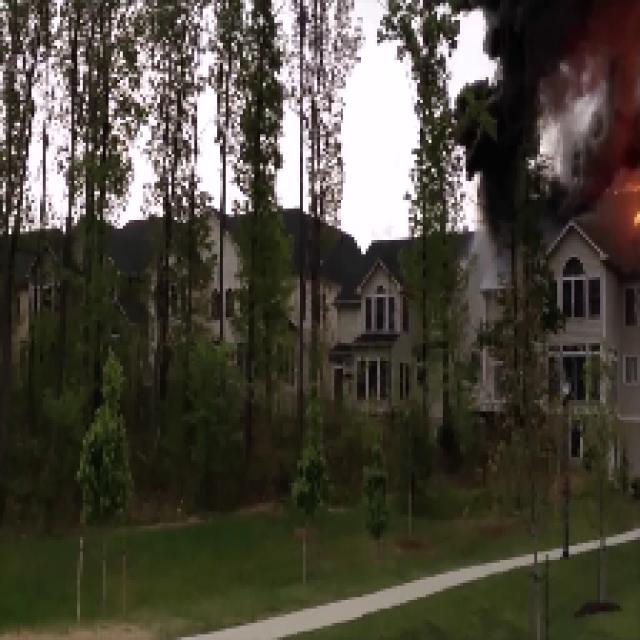smoke: (512, 12, 626, 172)
